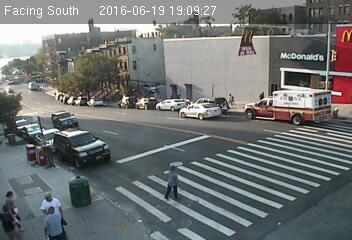neg: (85, 71, 114, 110), (50, 124, 73, 156), (129, 90, 150, 119), (79, 130, 100, 158), (41, 105, 59, 129), (42, 154, 54, 169), (38, 136, 48, 149)
pos: (154, 163, 184, 202), (39, 206, 64, 239), (256, 88, 271, 109), (222, 90, 235, 107)
